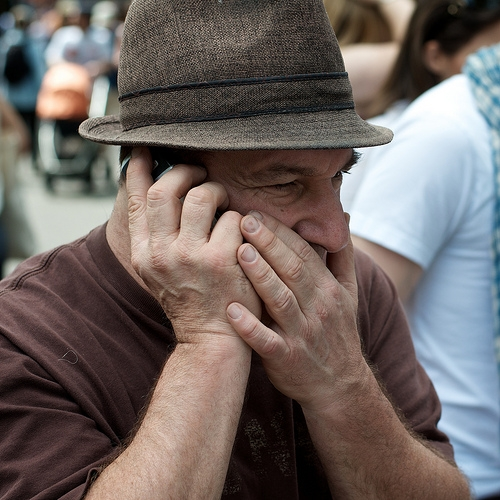phone: (126, 169, 278, 309)
